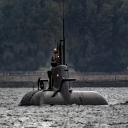submarine: (16, 4, 110, 108)
